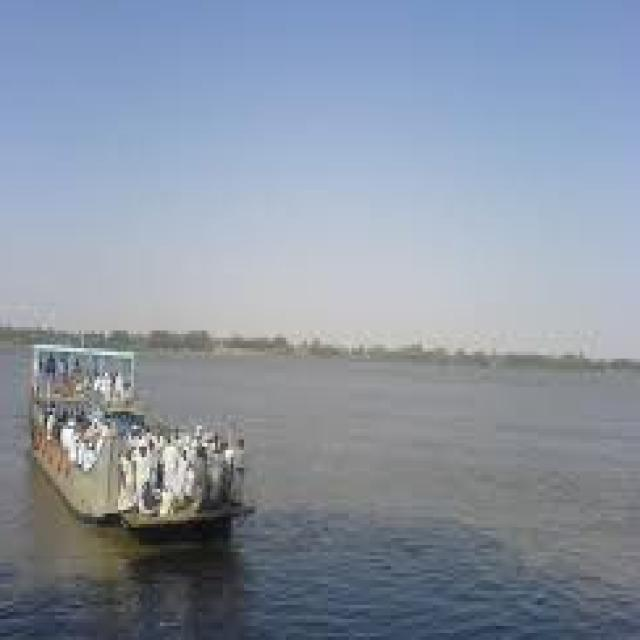houseboat: (18, 321, 250, 540)
